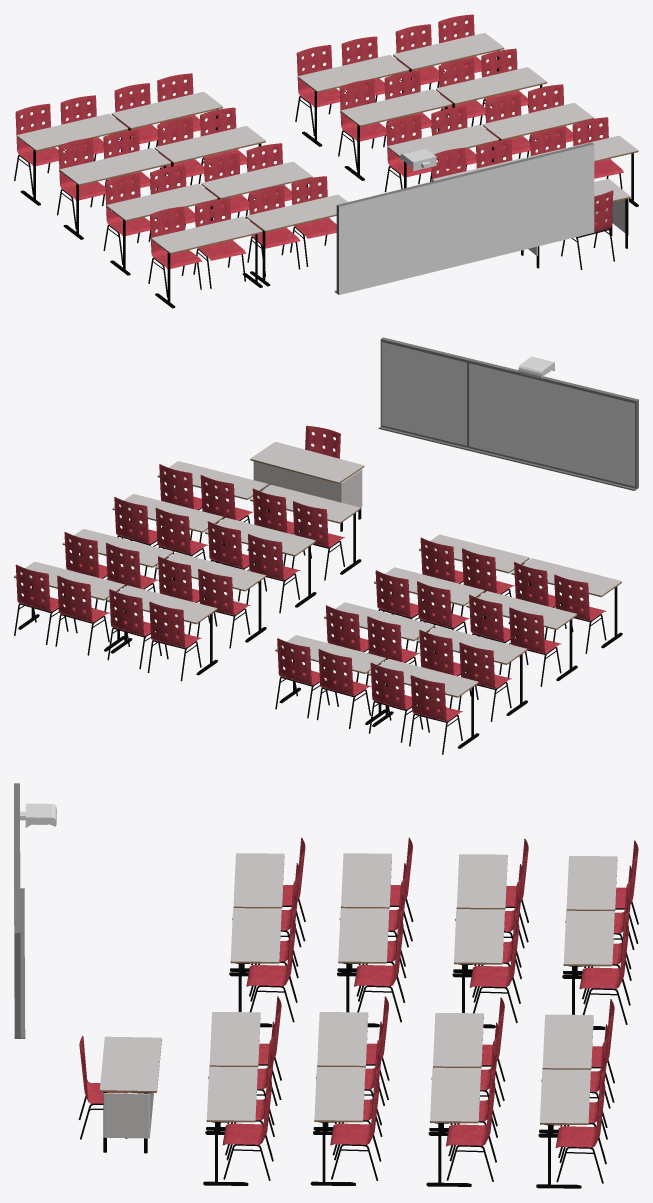
The model's file is fur_test_salle_sized.glb.
3 renders of one model, top to bottom at view 1: azimuth 30°, elevation 25°; view 2: azimuth 150°, elevation 25°; view 3: azimuth 270°, elevation 25°, orthographic. The views are drawn at different scales.
Visible parts, largest first — view 1: Tableau39, Tableau40, Table_Table323, Table_Table322, Table_Table319, Table_Table320, Table_Table328, Table_Table330, Table_Table327, Table_Table318, Table_Table326, Table_Table321 (+42 smaller); view 2: Tableau39, Tableau40, Table_prof_Table16, Table_prof_Cube_16, Chaise_Rouge_Pied_391, Chaise_Rouge_Pied_407, Chaise_Rouge_Pied_393, Chaise_Rouge_Pied_409, Chaise_Rouge_Pied_399, Chaise_Rouge_Pied_383, Chaise_Rouge_Pied_408, Chaise_Rouge_Pied_392 (+41 smaller); view 3: Table_prof_Table16, Table_Table326, Table_Table324, Table_Table328, Table_Table318, Table_Table322, Table_Table323, Table_Table325, Table_Table316, Table_Table330, Table_Table320, Table_Table327 (+26 smaller).
Part boxes in pixels (x1,y1,x2,y2): Tableau39: (334,164,507,294); Tableau40: (505,142,594,253); Table_Table323: (151,216,262,254); Table_Table322: (393,33,504,70); Table_Table319: (341,89,452,126); Table_Table320: (436,67,547,104); Table_Table328: (154,126,265,163); Table_Table330: (111,91,222,129); Table_Table327: (59,148,170,185); Table_Table318: (482,103,593,140); Table_Table326: (201,161,312,198); Table_Table321: (298,55,409,92); Tableau39: (465,358,638,490); Tableau40: (378,337,469,449); Table_prof_Table16: (250,442,364,483); Table_prof_Cube_16: (253,461,362,507); Chaise_Rouge_Pied_391: (147,601,201,681); Chaise_Rouge_Pied_407: (409,675,462,754); Chaise_Rouge_Pied_393: (55,575,109,655); Chaise_Rouge_Pied_409: (316,649,371,728); Chaise_Rouge_Pied_399: (507,607,561,686); Chaise_Rouge_Pied_383: (246,534,300,613); Chaise_Rouge_Pied_408: (275,638,329,718); Chaise_Rouge_Pied_392: (14,564,68,644); Table_prof_Table16: (100,1036,161,1092); Table_Table326: (338,908,389,963); Table_Table324: (230,908,281,963); Table_Table328: (454,909,504,964); Table_Table318: (314,1067,365,1122); Table_Table322: (540,1069,590,1124); Table_Table323: (233,853,284,908); Table_Table325: (341,853,391,908); Table_Table316: (206,1066,257,1122); Table_Table330: (563,910,614,966); Table_Table320: (430,1067,480,1123); Table_Table327: (456,854,507,909).
Bounding box in the file's own units: 6.56 × 2.34 × 6.42.
Materials: 10 (2 with a texture image).
